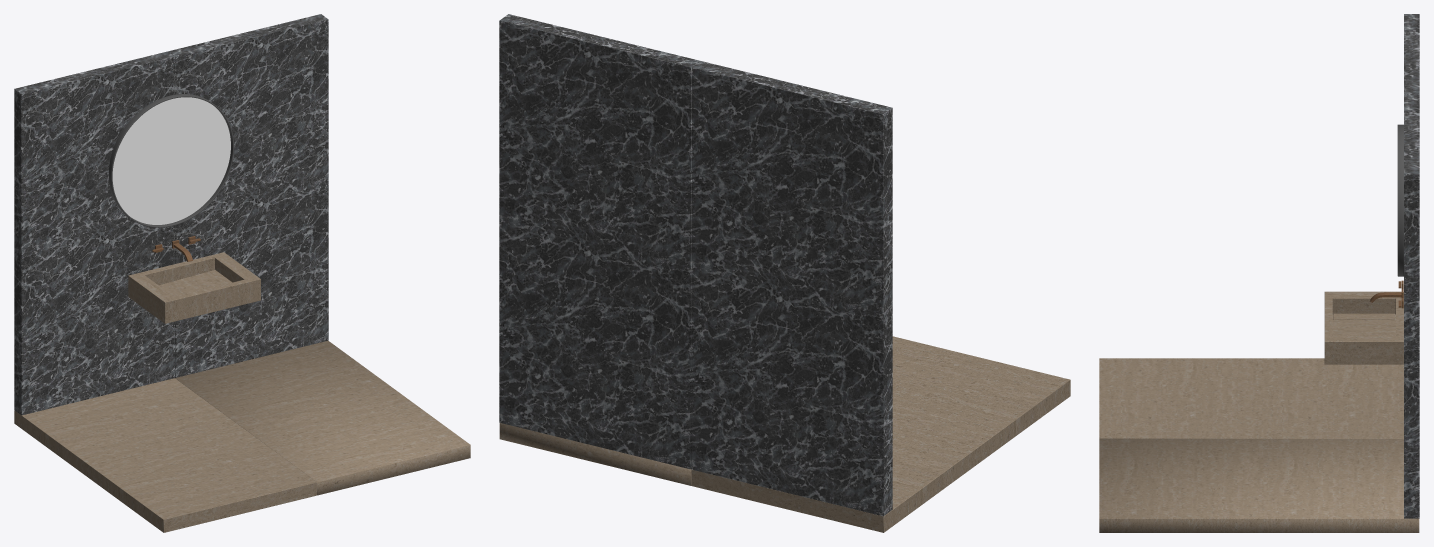
Rendered from notexture.fbx.
3 renders of one model, left to right at view 1: azimuth 30°, elevation 25°; view 2: azimuth 150°, elevation 25°; view 3: azimuth 270°, elevation 25°, orthographic. The views are drawn at different scales.
Visible parts, largest first — view 1: Cube.001, Cube_1, Cube_3, Cube_2, Disc, Alakzat___016_2, Tube; view 2: Cube.001, Cube_1, Cube_3, Cube_2; view 3: Cube_2, Cube_3, Cube_1, Alakzat___016_2, Cube.001, Tube.
Boxes of the visible parts, x1,y1,x2,y2 form: Cube.001: [14, 51, 174, 415]; Cube_1: [168, 14, 328, 377]; Cube_3: [14, 378, 317, 532]; Cube_2: [175, 340, 470, 495]; Disc: [112, 97, 230, 224]; Alakzat___016_2: [128, 252, 260, 323]; Tube: [108, 94, 234, 227]; Cube.001: [691, 61, 892, 516]; Cube_1: [499, 14, 699, 469]; Cube_3: [691, 336, 1070, 532]; Cube_2: [499, 423, 691, 485]; Cube_2: [1099, 438, 1419, 532]; Cube_3: [1099, 358, 1403, 438]; Cube_1: [1404, 94, 1419, 518]; Alakzat___016_2: [1324, 291, 1403, 364]; Cube.001: [1404, 14, 1419, 94]; Tube: [1397, 124, 1403, 276].
Bounding box in the file's own units: 240 × 250 × 202.
